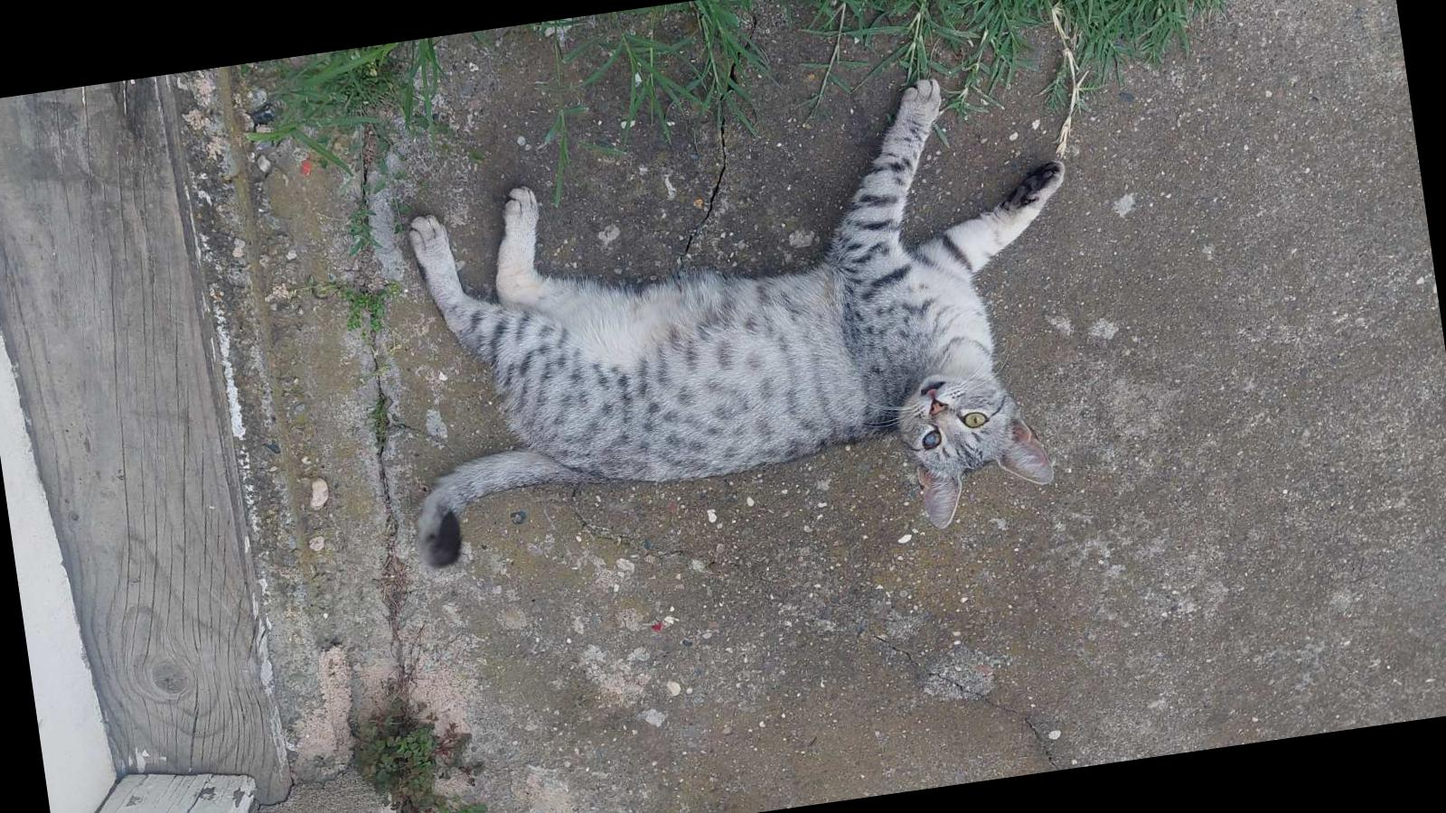macka: (360, 51, 1116, 607)
